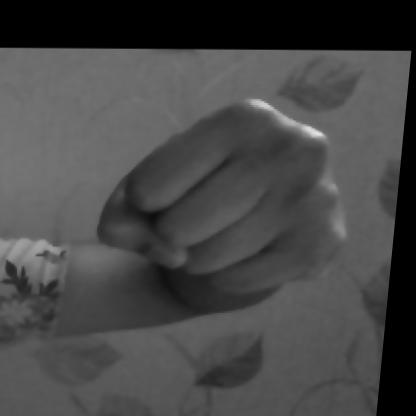fist: (71, 89, 373, 359)
